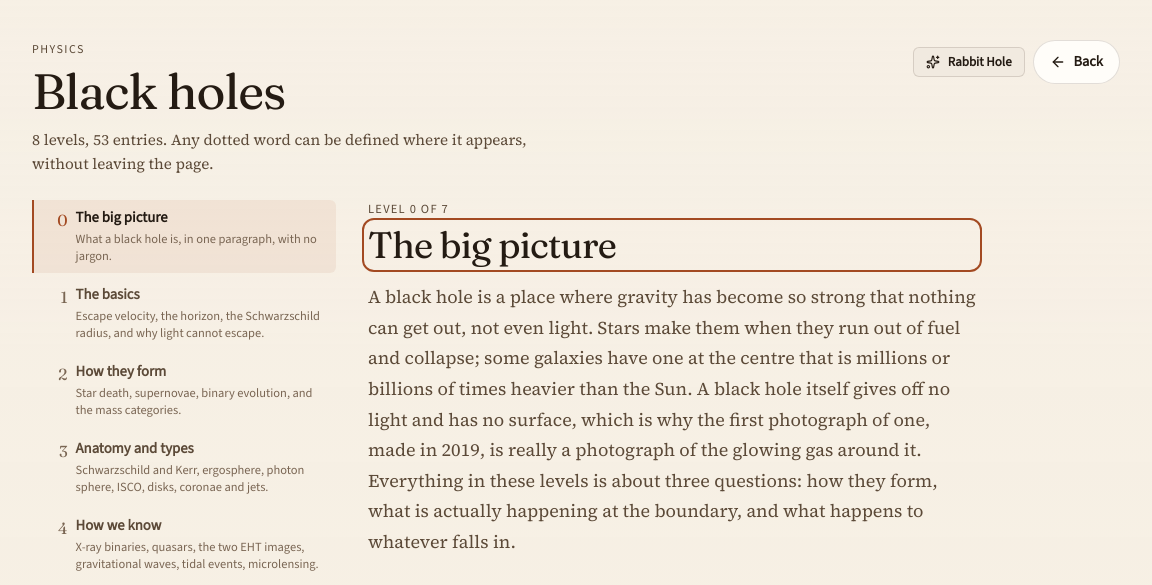
Test: the level reader › renders all four fields of an entry
The width and height of the screenshot is (1152, 585).
Click the button "The basics".
click(184, 314)  # box [32,277,336,350]
(page scrolled)
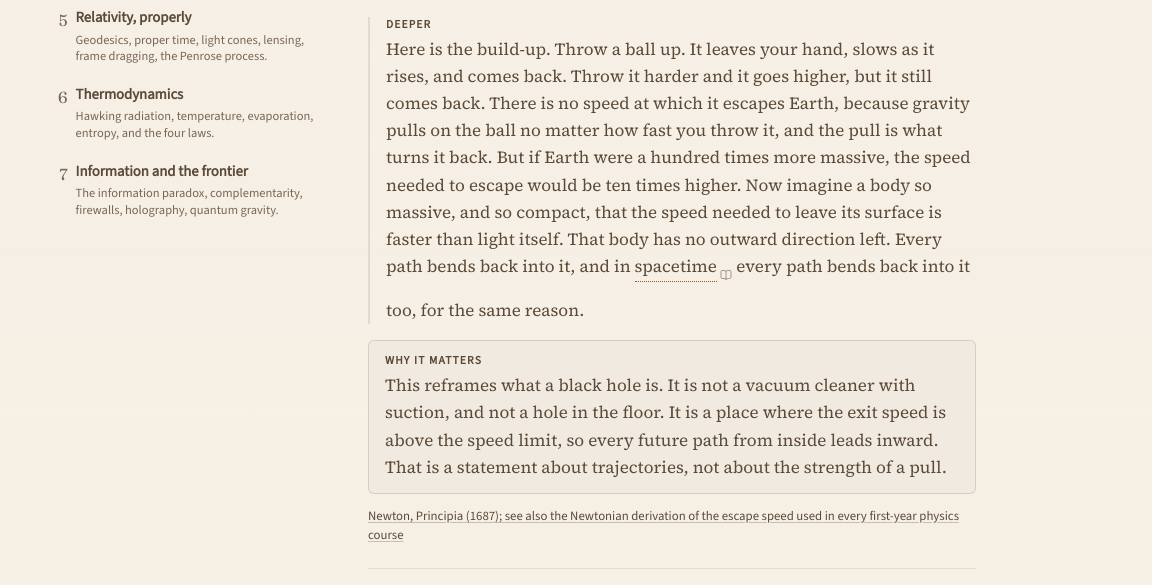
expect the heading "Deeper" is shown: met, box [386,16,431,32]
expect the heading "Why it matters" is shown: met, box [385,352,482,368]
